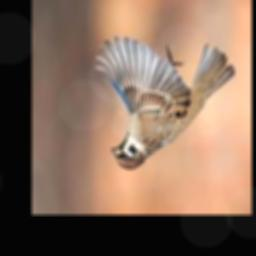Sparrow: (96, 37, 235, 170)
